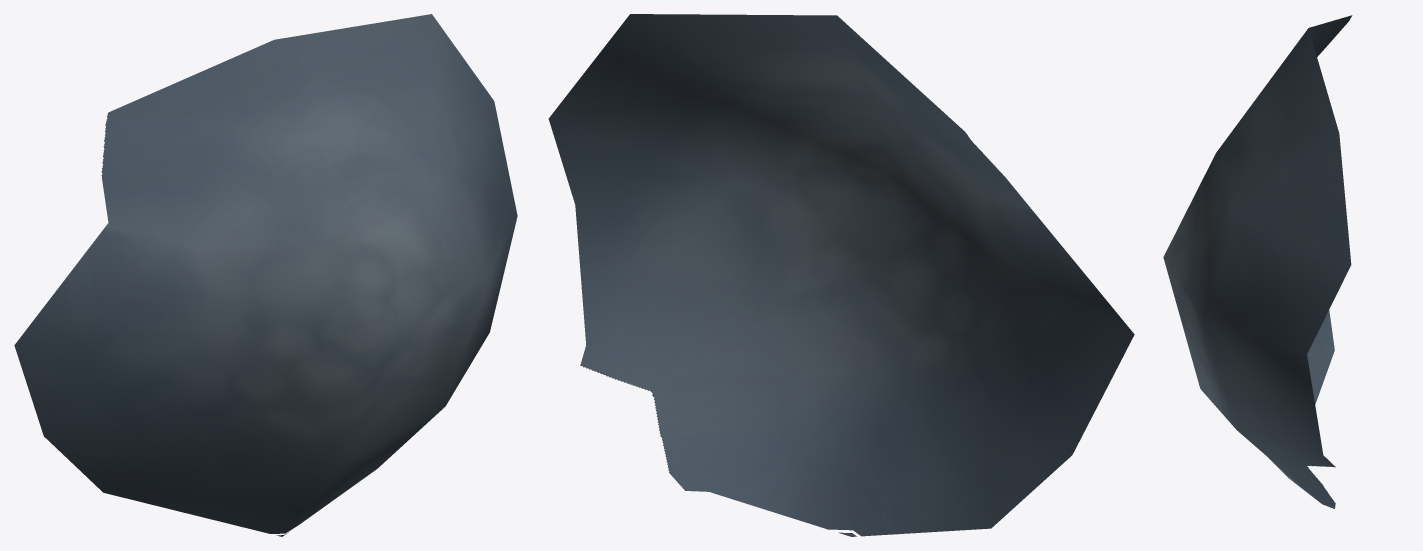
Rendered from Dust_Face.fbx.
3 renders of one model, left to right at view 1: azimuth 30°, elevation 25°; view 2: azimuth 150°, elevation 25°; view 3: azimuth 270°, elevation 25°, orthographic. The views are drawn at different scales.
Visible parts, largest first — view 1: Dust1; view 2: Dust1; view 3: Dust1.
Part boxes in pixels (left/top/right/bottom): Dust1: left=14, top=14, right=517, bottom=536; Dust1: left=548, top=14, right=1134, bottom=536; Dust1: left=1163, top=15, right=1352, bottom=508.
Size of the model in its own units: 96.99 by 88.71 by 43.66.
